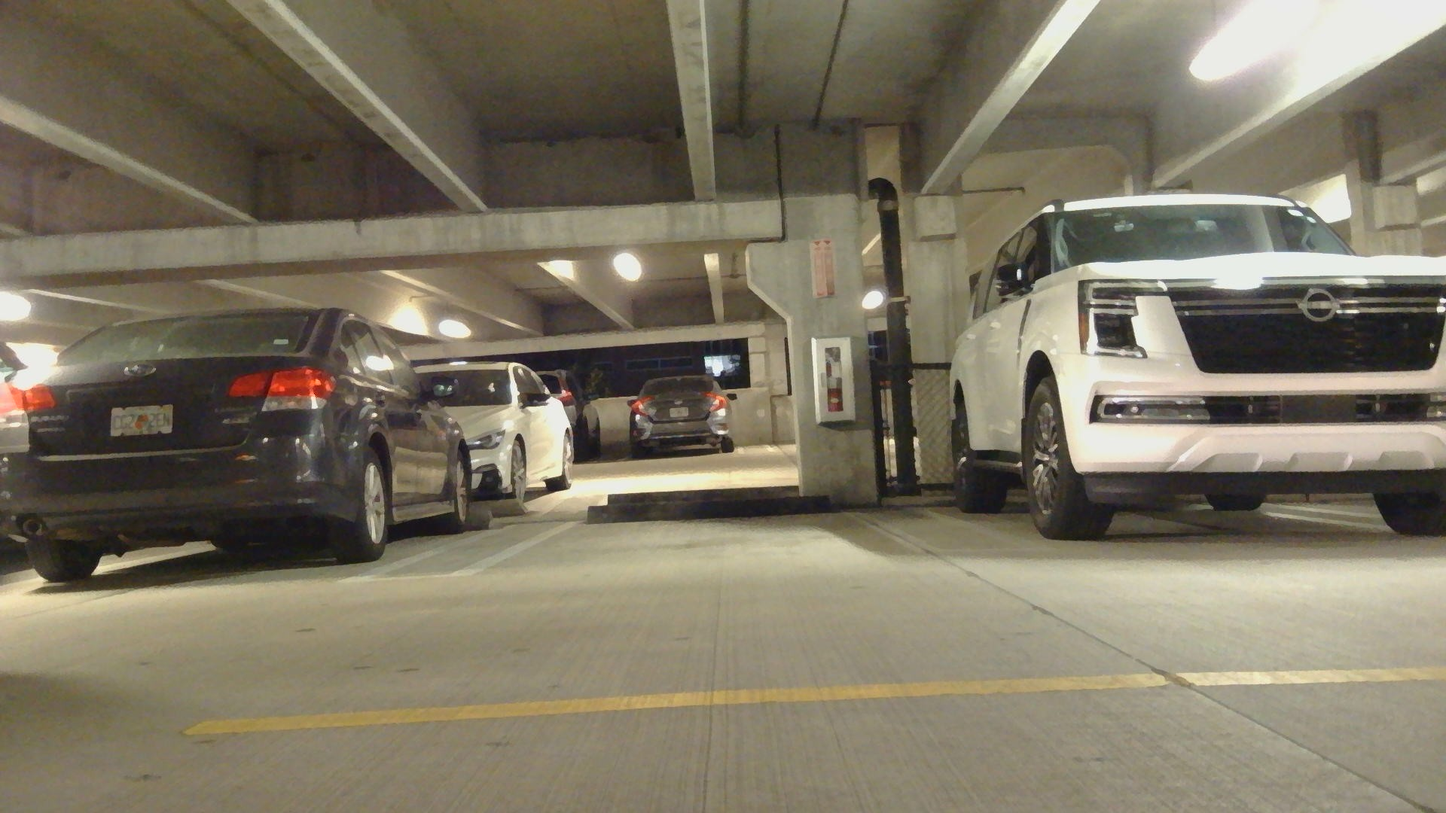empty_spot: (478, 500, 917, 586)
occupied_spot: (953, 195, 1442, 540), (0, 299, 471, 590)
